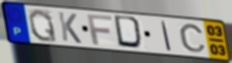C: (178, 23, 208, 54)
D: (112, 14, 146, 51)
F: (86, 14, 114, 47)
I: (160, 20, 173, 53)
K: (56, 11, 83, 45)
Q: (27, 8, 59, 44)
